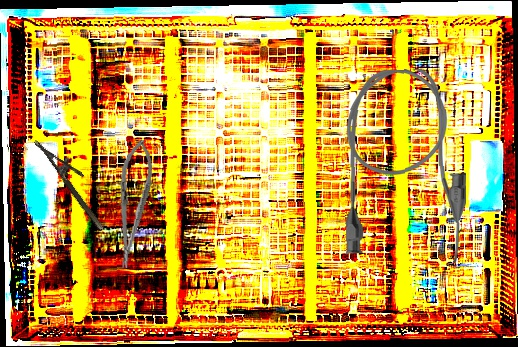Cannula: (342, 68, 468, 265)
Needle Holder: (33, 129, 116, 232), (107, 137, 158, 271)
